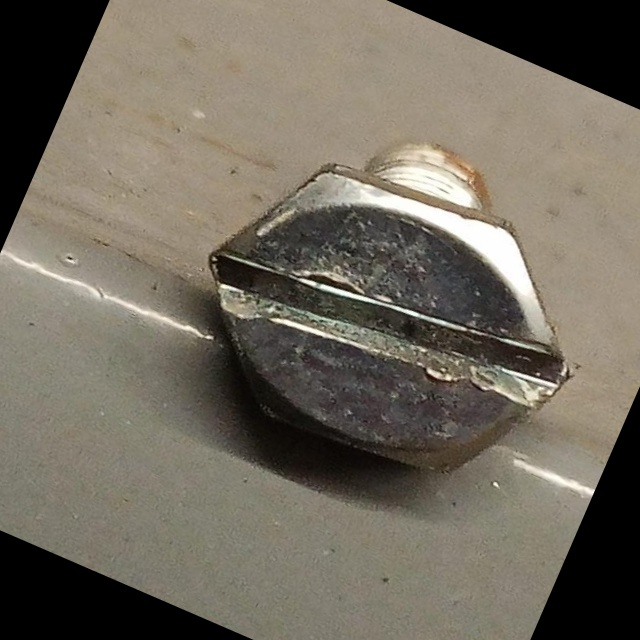duz: (157, 117, 619, 528)
